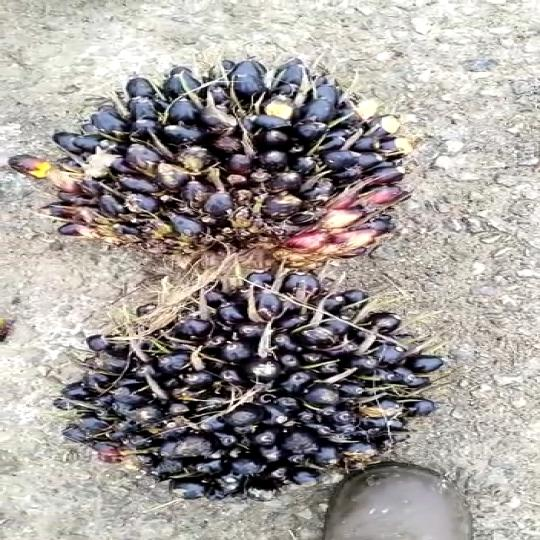mentah: (51, 264, 427, 537), (28, 45, 403, 296)
